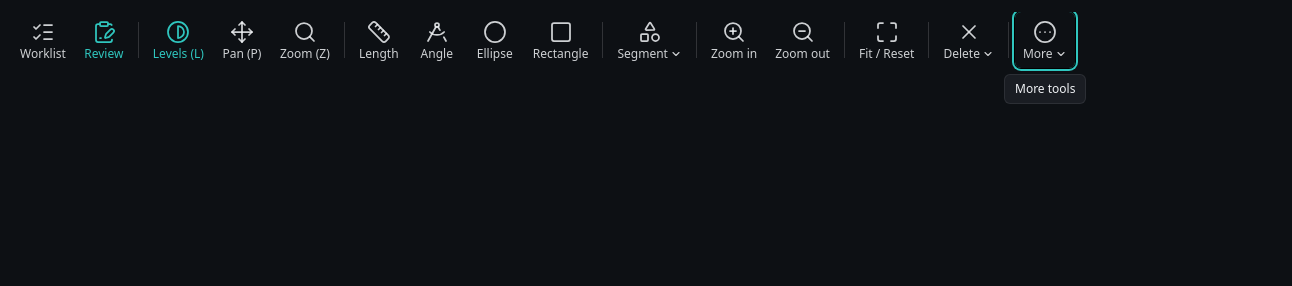
Test case: More menu keyboard › ArrowUp opens on the last item; Enter runs it and closes; Tab and outside clicks close
Press Arrowup
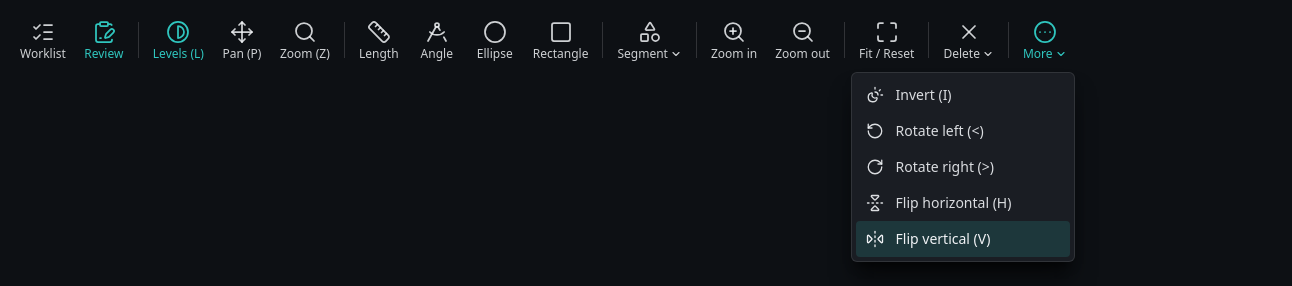
Press Enter
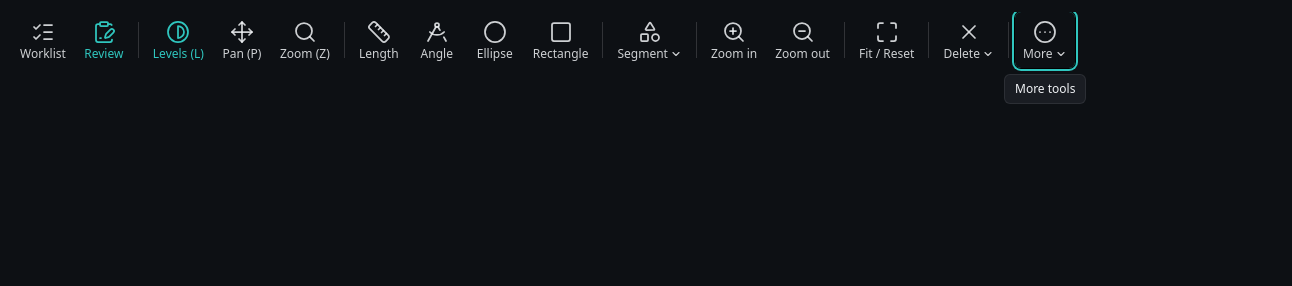
Result: the menu is gone
Press Arrowdown
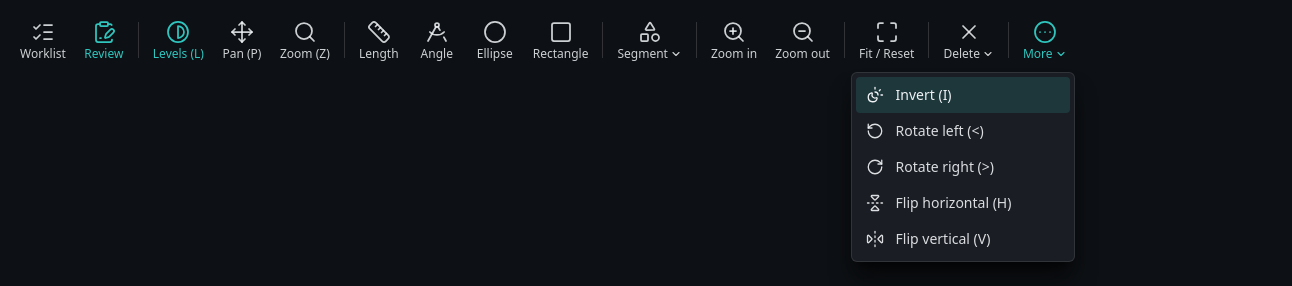
Result: the menu is shown at [850,72,1074,262]
Press Tab
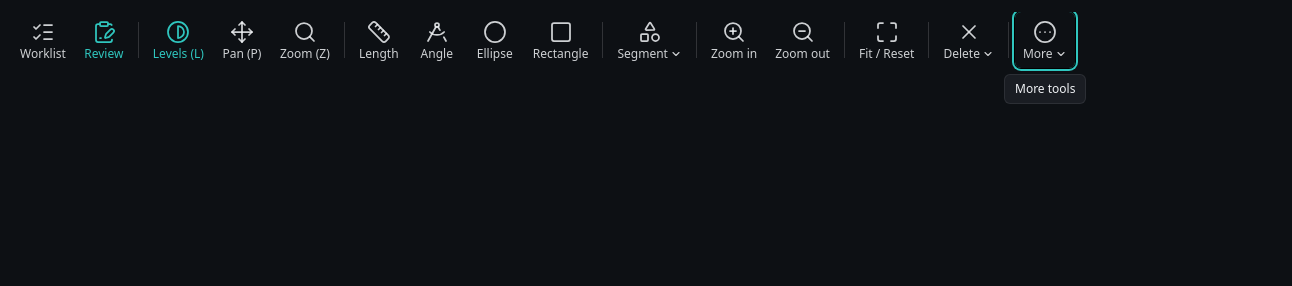
Result: the menu is gone
Click the button "More". click: (1045, 40)
box: [1015,12,1074,68]
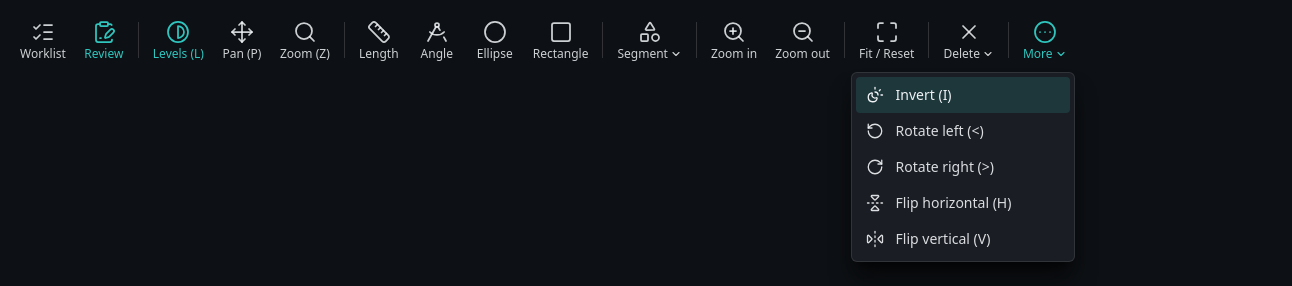
Result: the menu is shown at [850,72,1074,262]
Click the element that starts with "Worklist". click: (652, 40)
box: [12,12,1291,68]
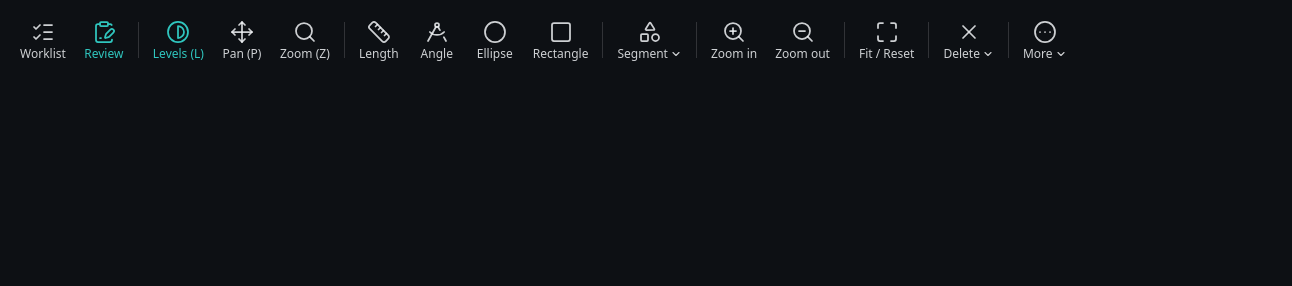
Result: the menu is gone
